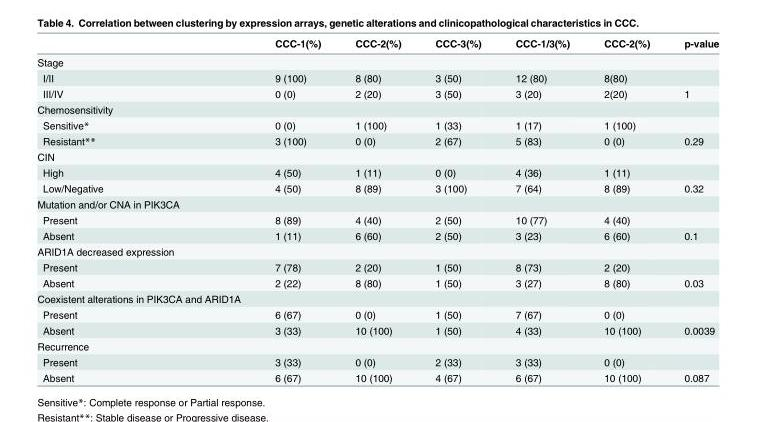table: (36, 36, 718, 383)
table column: (36, 36, 257, 383), (497, 36, 586, 383), (257, 36, 337, 383), (337, 36, 417, 383), (417, 36, 497, 383), (586, 36, 666, 383), (666, 36, 718, 383)
table column header: (36, 36, 718, 52)
table projected row header: (36, 52, 718, 69), (36, 148, 718, 164), (36, 195, 718, 211), (36, 243, 718, 259), (36, 290, 718, 306), (36, 337, 718, 353), (36, 101, 718, 116)
table row: (36, 52, 718, 69), (36, 36, 718, 52), (36, 69, 718, 85), (36, 85, 718, 101), (36, 116, 718, 132), (36, 132, 718, 148), (36, 148, 718, 164), (36, 164, 718, 180), (36, 195, 718, 211), (36, 211, 718, 227), (36, 227, 718, 243), (36, 243, 718, 259), (36, 274, 718, 290), (36, 290, 718, 306), (36, 306, 718, 322), (36, 337, 718, 353), (36, 353, 718, 369), (36, 101, 718, 116), (36, 180, 718, 195), (36, 259, 718, 274), (36, 322, 718, 337), (36, 369, 718, 383)
